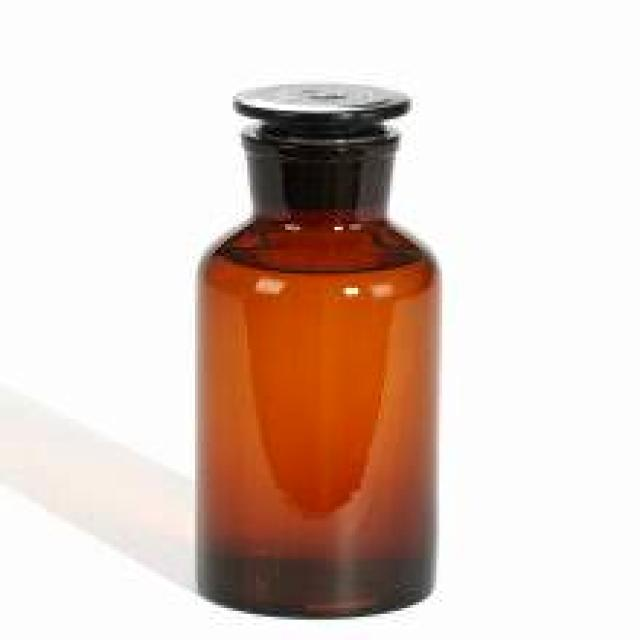Glass: (189, 80, 447, 622)
